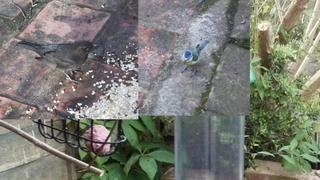blackbird: (15, 40, 98, 85)
blue tit: (180, 40, 210, 78)
